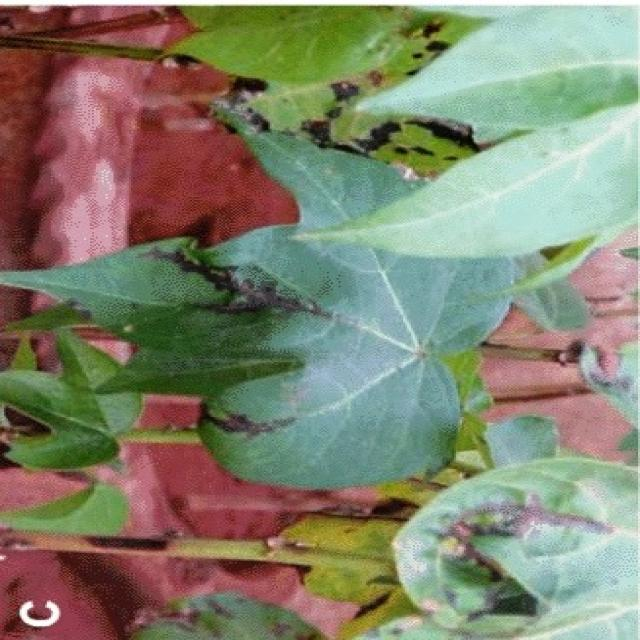Bacterial Blight: (118, 226, 378, 444)
